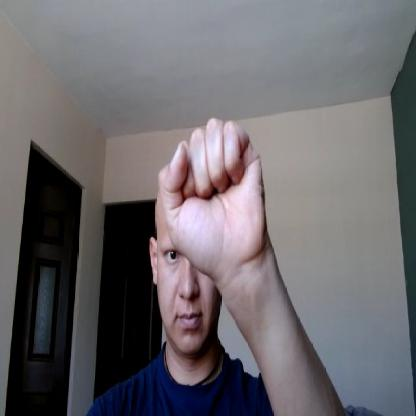S: (159, 117, 267, 278)
